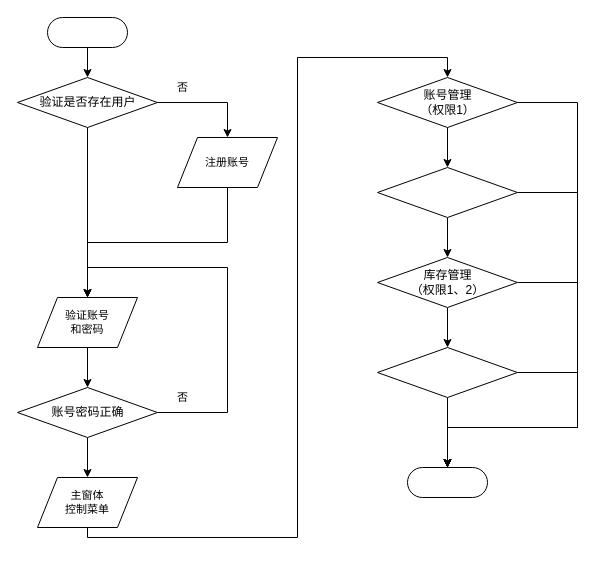
Some shapes in this 603 by 563 pixel diagram are drawn without their labels. Here are the shapes that lost their labels. From the top down, the box of each, then its label:
(46, 16, 128, 48): 开始
(376, 166, 518, 218): 供应商管理 （权限1、2）
(376, 346, 518, 398): 订单管理 （不限权限）
(406, 466, 488, 498): 结束
